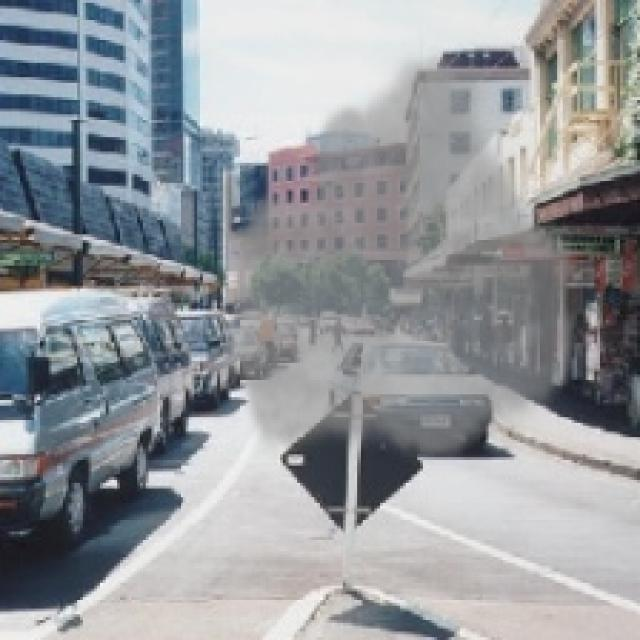smoke: (220, 43, 591, 466)
